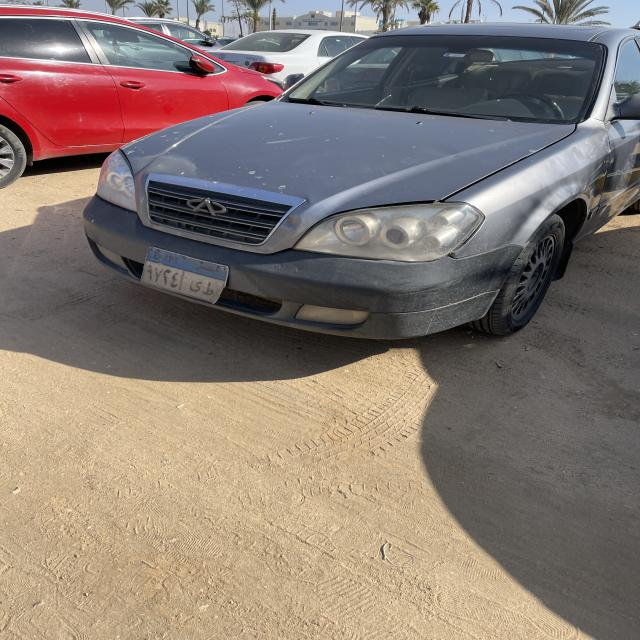License Plate: (140, 246, 229, 303)
